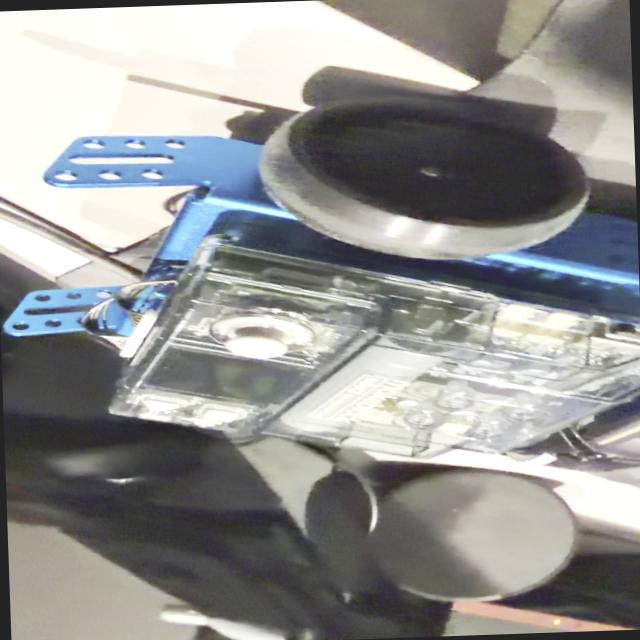mbot-detection: (0, 65, 640, 497)
